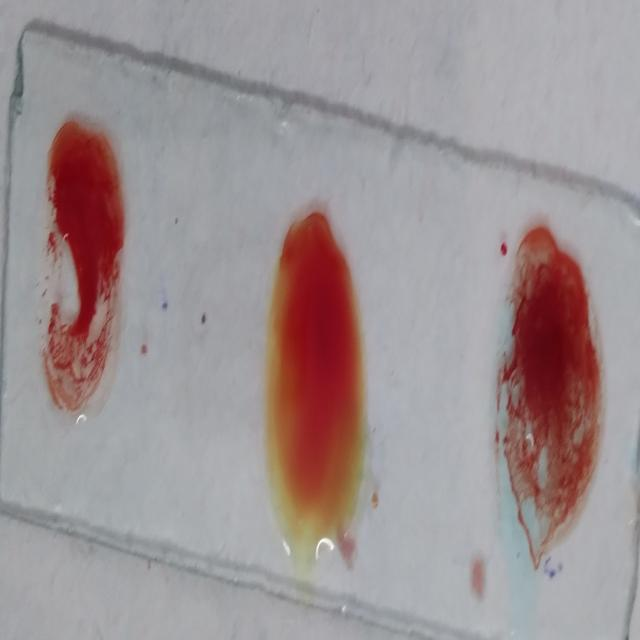A: (502, 244, 597, 571)
D: (43, 128, 129, 427)
